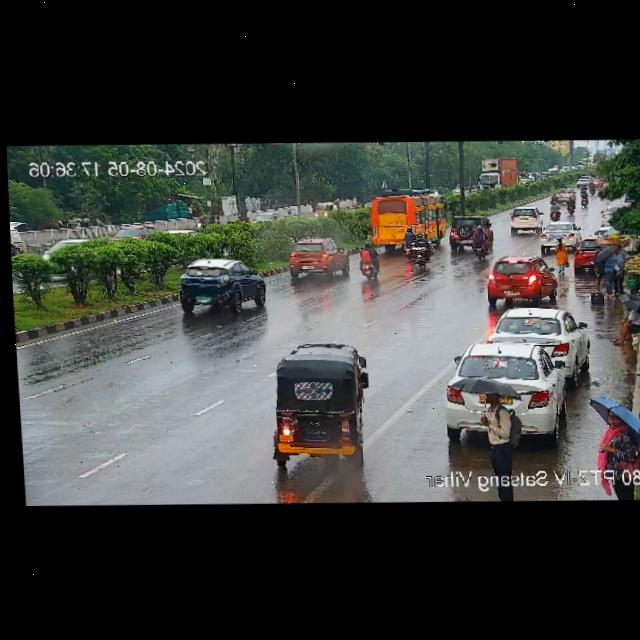bus: (358, 189, 444, 252)
car: (258, 342, 361, 469), (452, 343, 565, 420), (491, 306, 589, 367), (176, 257, 268, 316), (480, 256, 560, 308), (279, 237, 347, 280), (449, 214, 496, 256), (538, 220, 585, 248), (507, 206, 542, 233), (574, 234, 600, 269), (560, 188, 574, 199)
motorcycle: (404, 229, 435, 266), (358, 238, 380, 283), (470, 226, 488, 258), (578, 190, 589, 208), (565, 196, 575, 215), (549, 201, 557, 221), (551, 193, 558, 199)
person: (479, 388, 514, 476), (598, 406, 635, 473), (596, 242, 640, 295), (606, 294, 640, 346), (554, 236, 569, 275)
truck: (477, 155, 521, 188)
